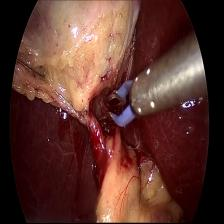Bipolar: (93, 59, 153, 136)
